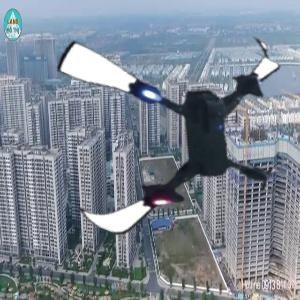drone: (38, 7, 295, 264)
